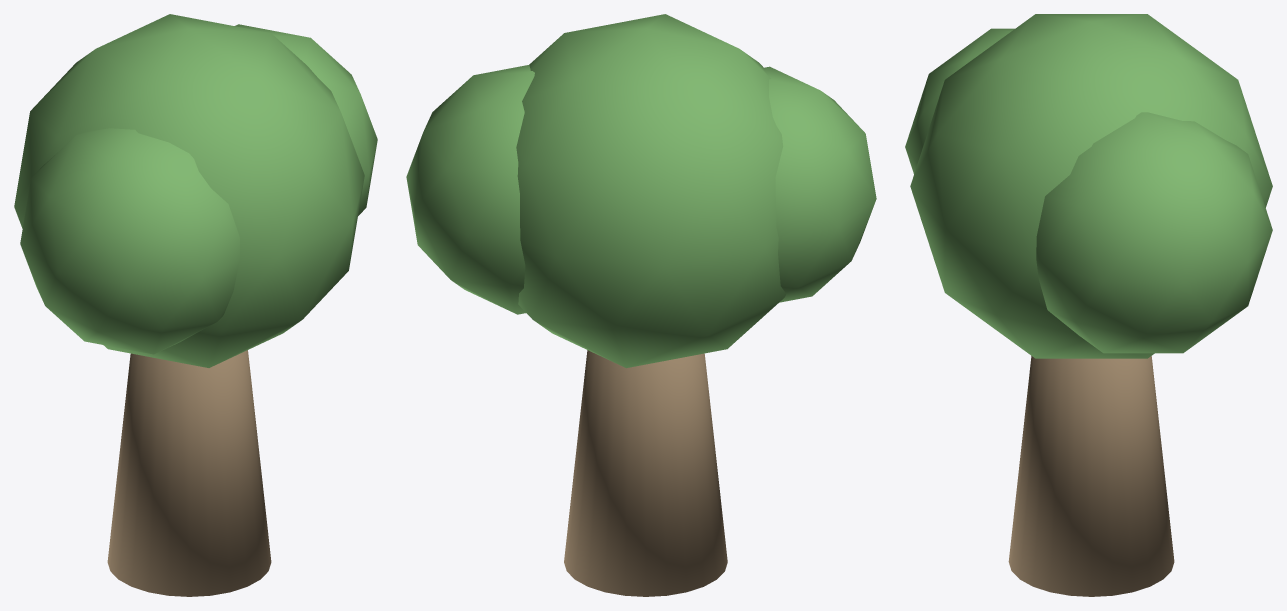
The model's file is tree.glb.
The picture shows the model from 3 angles, left to right: view 1: azimuth 30°, elevation 25°; view 2: azimuth 150°, elevation 25°; view 3: azimuth 270°, elevation 25°; orthographic projection.
Visible parts, largest first — view 1: Cone; view 2: Cone; view 3: Cone.
Part boxes in pixels (left/top/right/bottom): Cone: left=14, top=14, right=377, bottom=596; Cone: left=406, top=14, right=876, bottom=596; Cone: left=905, top=14, right=1272, bottom=596.
Size of the model in its own units: 0.846 by 1.15 by 0.71.
